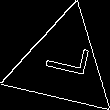L_W: (35, 44, 90, 86)
